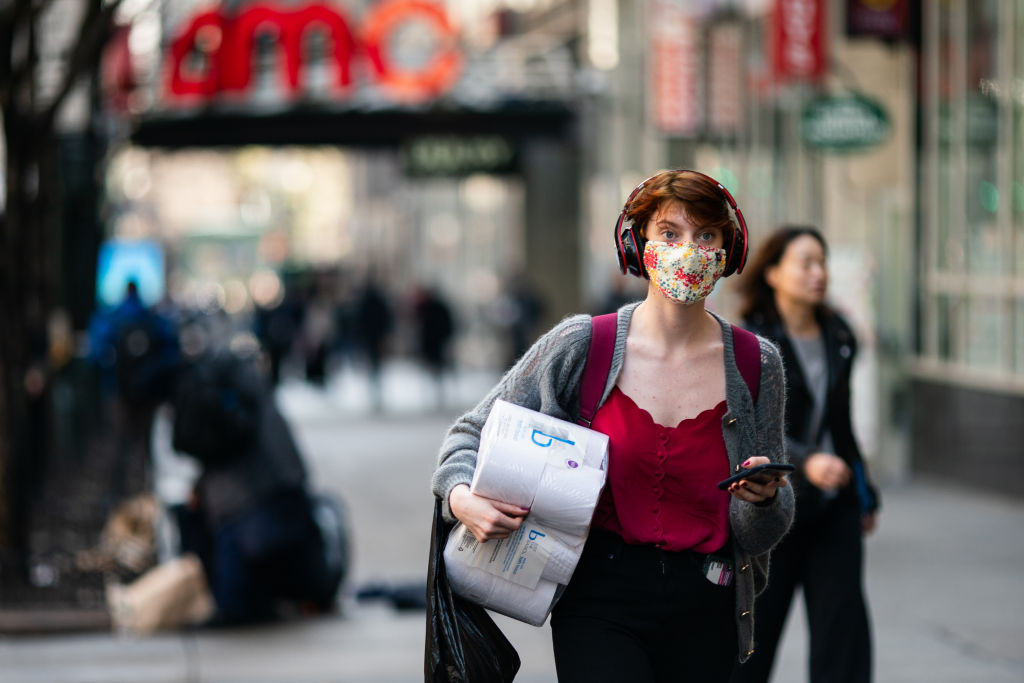mask: (635, 233, 727, 317)
